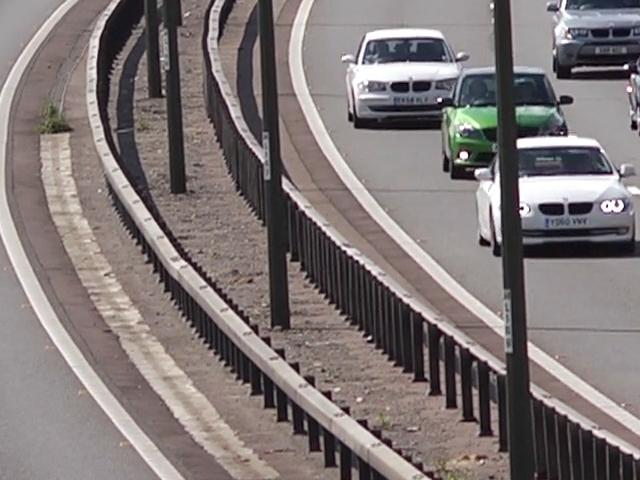car: (473, 144, 640, 261), (340, 25, 470, 130), (450, 67, 568, 168), (546, 0, 640, 75)
